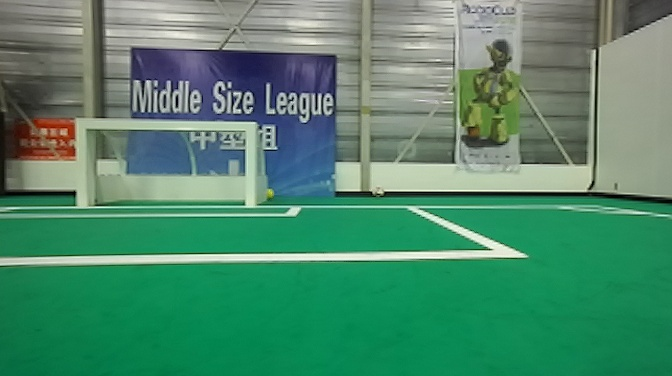ball: (363, 182, 392, 197), (261, 183, 279, 201)
goalpost: (240, 116, 273, 214), (69, 109, 98, 209)
